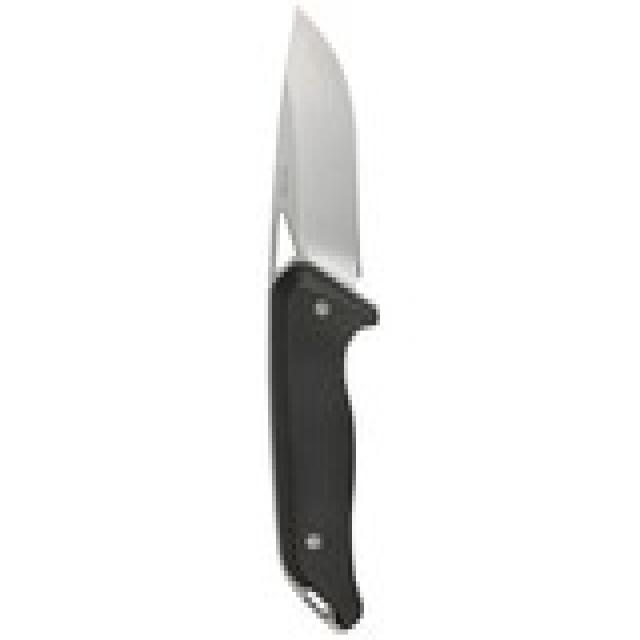Knife: (271, 2, 388, 636)
